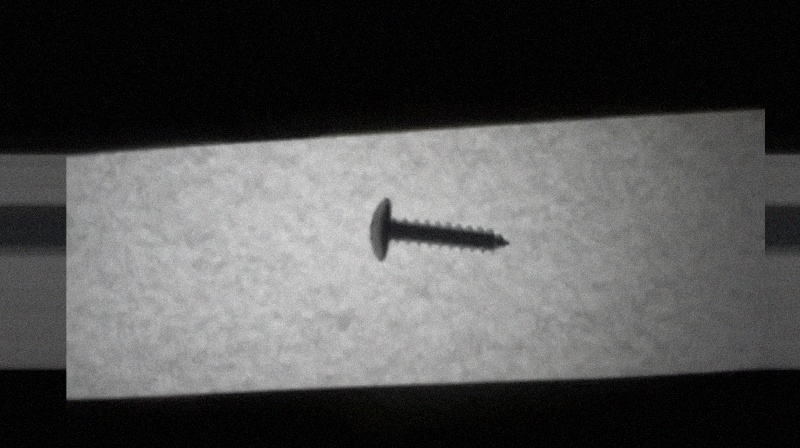S003: (365, 194, 512, 268)
